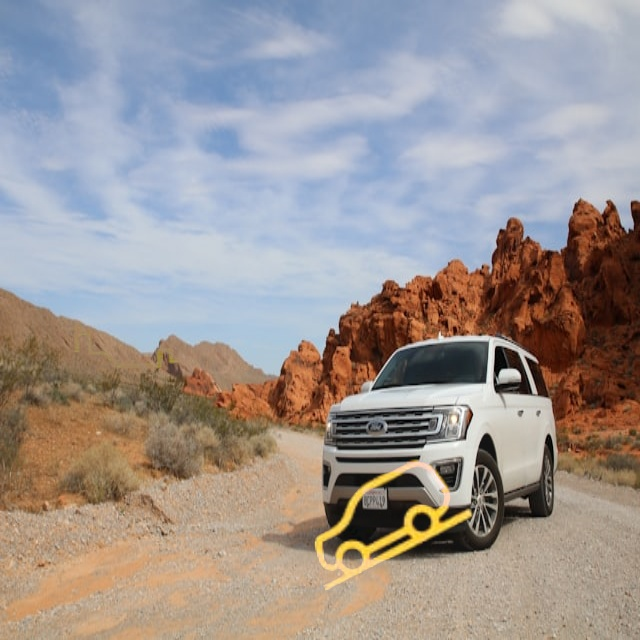symbol: (292, 427, 496, 631), (45, 249, 214, 418)
